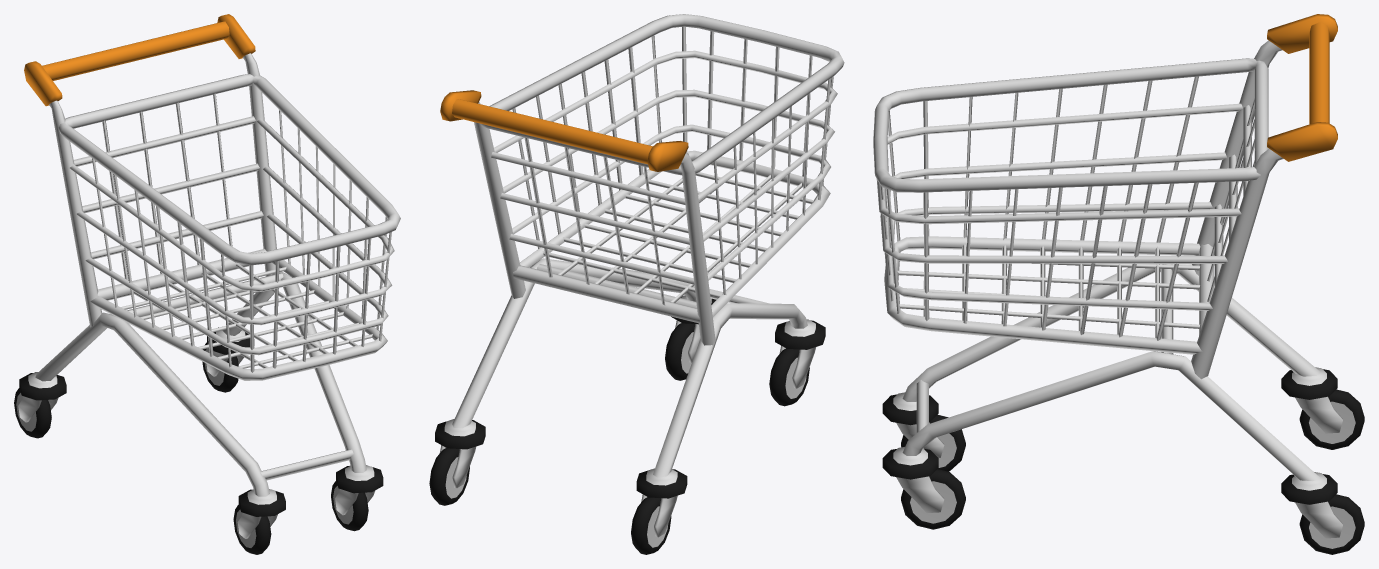
Rendered from ShoppingCart.fbx.
The picture shows the model from 3 angles, left to right: view 1: azimuth 30°, elevation 25°; view 2: azimuth 150°, elevation 25°; view 3: azimuth 270°, elevation 25°; orthographic projection. The views are drawn at different scales.
Parts seen in each view (by area): view 1: Einkaufswagen; view 2: Einkaufswagen; view 3: Einkaufswagen.
Boxes of the visible parts, bbox=[...] form: Einkaufswagen: bbox=[14, 14, 400, 554]; Einkaufswagen: bbox=[429, 14, 844, 554]; Einkaufswagen: bbox=[873, 14, 1364, 554].
Size of the model in its own units: 8.63 by 13.51 by 13.96.
